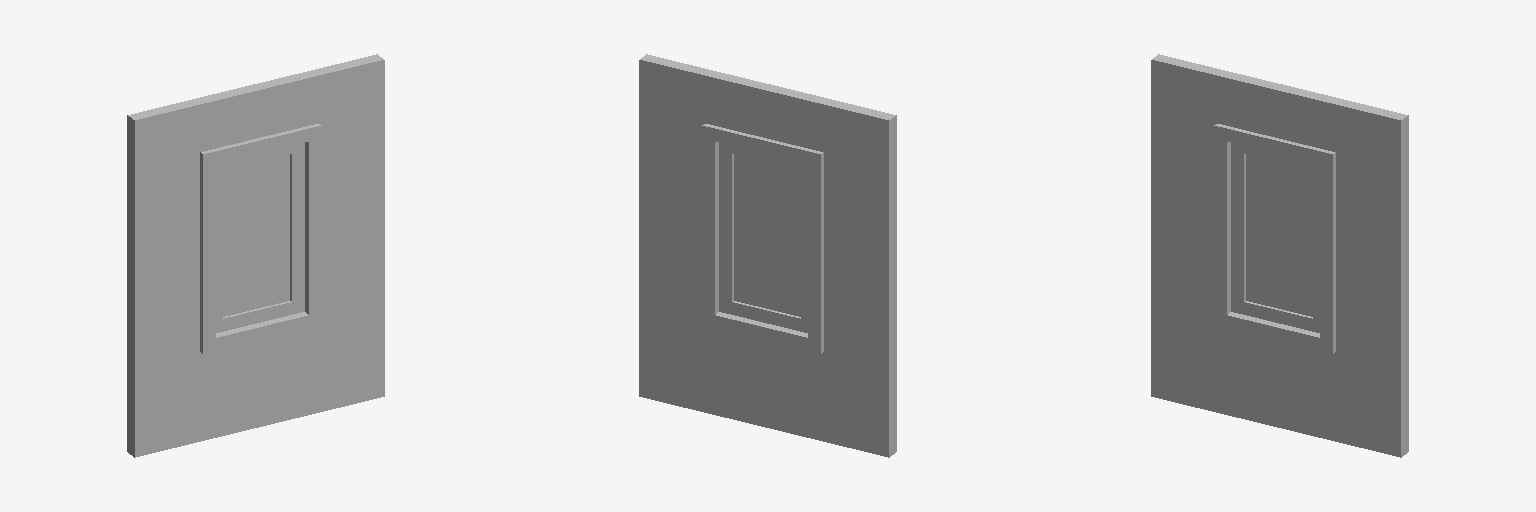
File: wallWindow.obj
The picture shows the model from 3 angles: view 1: azimuth 30°, elevation 25°; view 2: azimuth 150°, elevation 25°; view 3: azimuth 330°, elevation 25°; orthographic projection.
Parts seen in each view (by area): view 1: wallWindow, window; view 2: wallWindow, window; view 3: wallWindow, window.
Boxes of the visible parts, x1,y1,x2,y2 form: wallWindow: [127, 54, 384, 457]; window: [216, 143, 304, 332]; wallWindow: [639, 54, 896, 457]; window: [719, 143, 807, 332]; wallWindow: [1151, 54, 1408, 457]; window: [1231, 143, 1319, 332].
Size of the model in its own units: 1 by 1.29 by 0.0891.